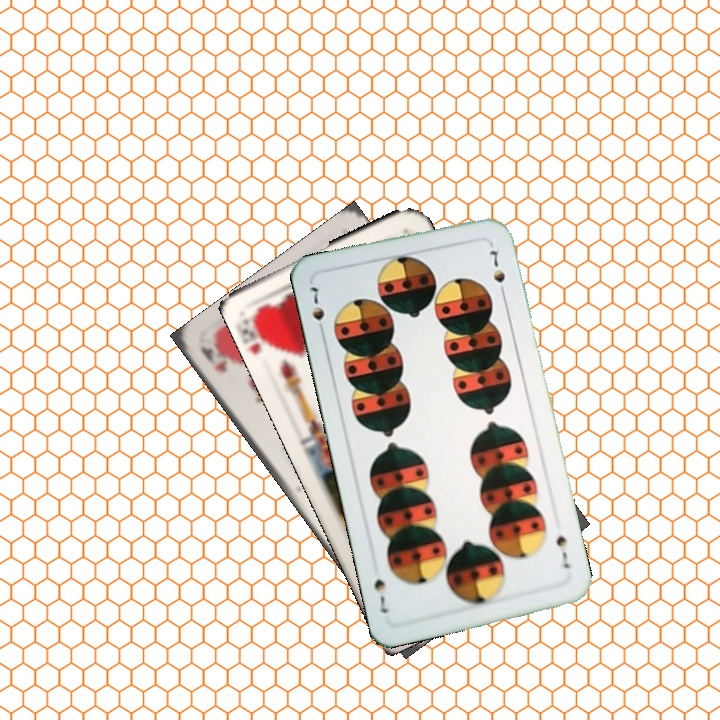HK: (238, 309, 274, 358), (196, 339, 231, 375)
S7: (305, 282, 327, 338), (552, 531, 573, 571)
